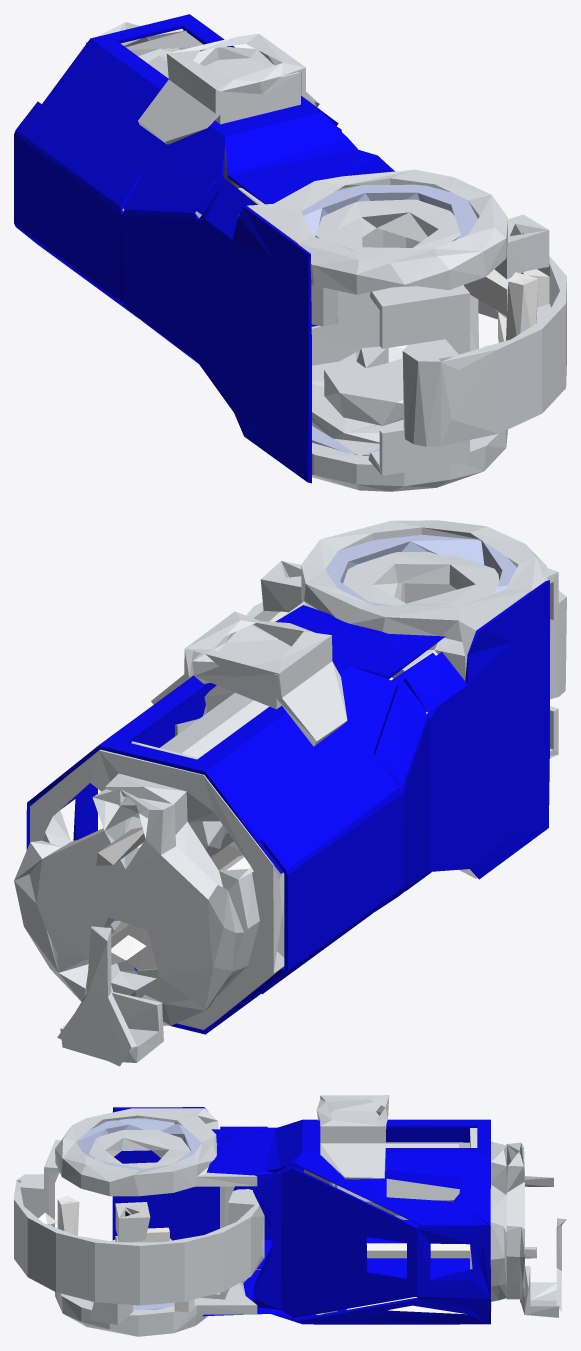
Rendered from LARM_LINK3_mesh.dae.
The picture shows the model from 3 angles, top to bottom: view 1: azimuth 30°, elevation 25°; view 2: azimuth 150°, elevation 25°; view 3: azimuth 270°, elevation 25°; orthographic projection. The views are drawn at different scales.
Parts seen in each view (by area): view 1: LARM_LINK3 (×12); view 2: LARM_LINK3 (×14); view 3: LARM_LINK3 (×16).
Boxes of the visible parts, left/top/right/bottom form: LARM_LINK3 (×12): left=14, top=14, right=566, bottom=491; LARM_LINK3 (×14): left=14, top=520, right=566, bottom=1066; LARM_LINK3 (×16): left=14, top=1095, right=566, bottom=1336.
Size of the model in its own units: 0.087 by 0.0834 by 0.2106.
